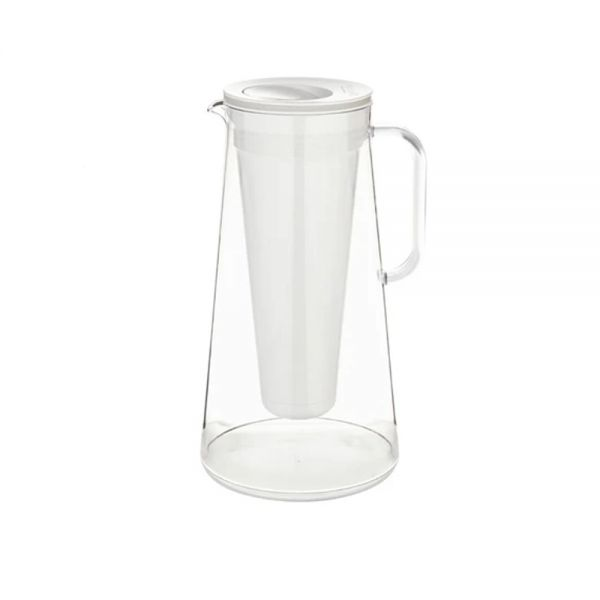plastic_bottle: (190, 69, 439, 511)
